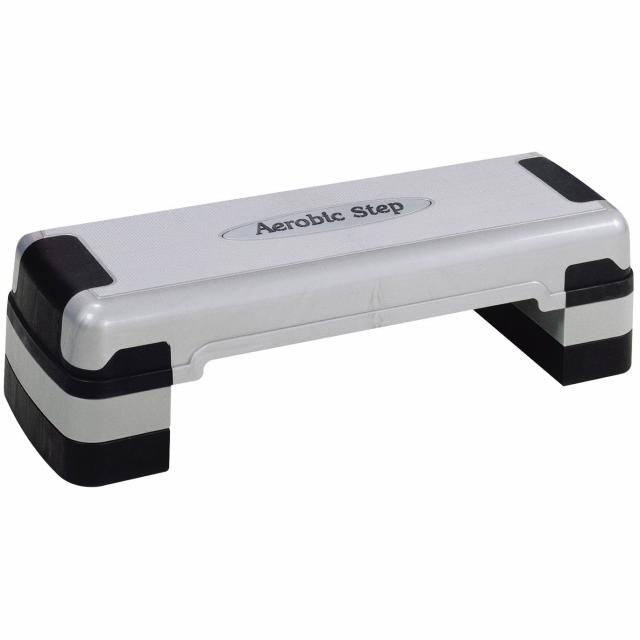Step: (3, 138, 640, 506)
